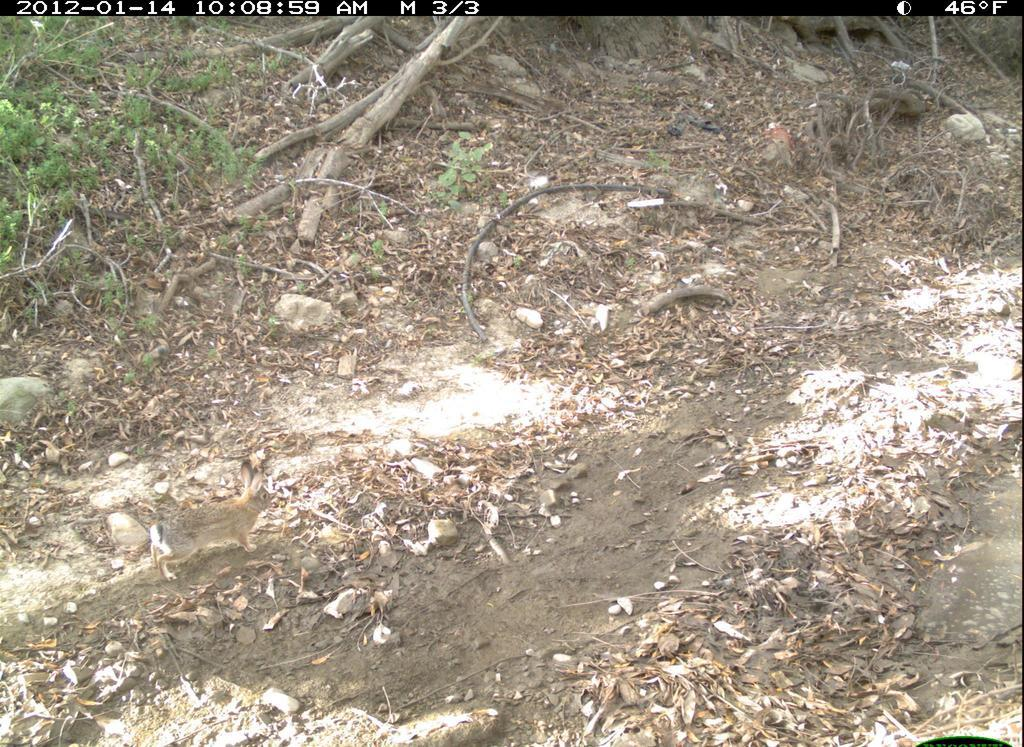rabbit: (143, 457, 277, 585)
